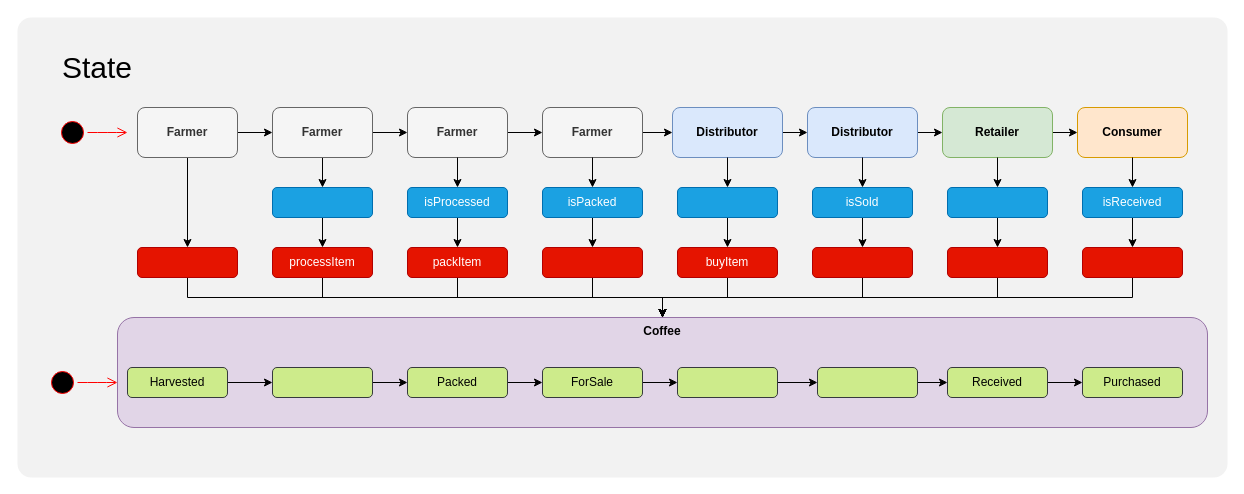
The diagram is 1244 pixels wide and 494 high, and some of its shapes have lost their labels. Here are the shapes that lost their labels. From the top down, the box of each, then its label:
(272, 186, 372, 218): isHarvested
(676, 186, 778, 218): isForSale
(946, 186, 1048, 218): isShipped
(136, 246, 238, 278): hasvestItem
(542, 246, 642, 278): sellItem
(812, 246, 912, 278): shipItem
(946, 246, 1048, 278): receiveItem
(1082, 246, 1182, 278): purchaseItem
(272, 366, 372, 398): Processed
(676, 366, 778, 398): Sold
(816, 366, 918, 398): Shipped
